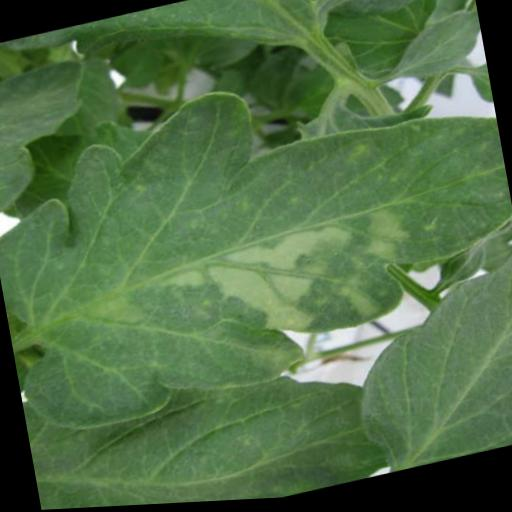Bacterial Spot: (0, 36, 512, 445)
Healthy: (22, 325, 390, 511), (386, 9, 486, 88)
